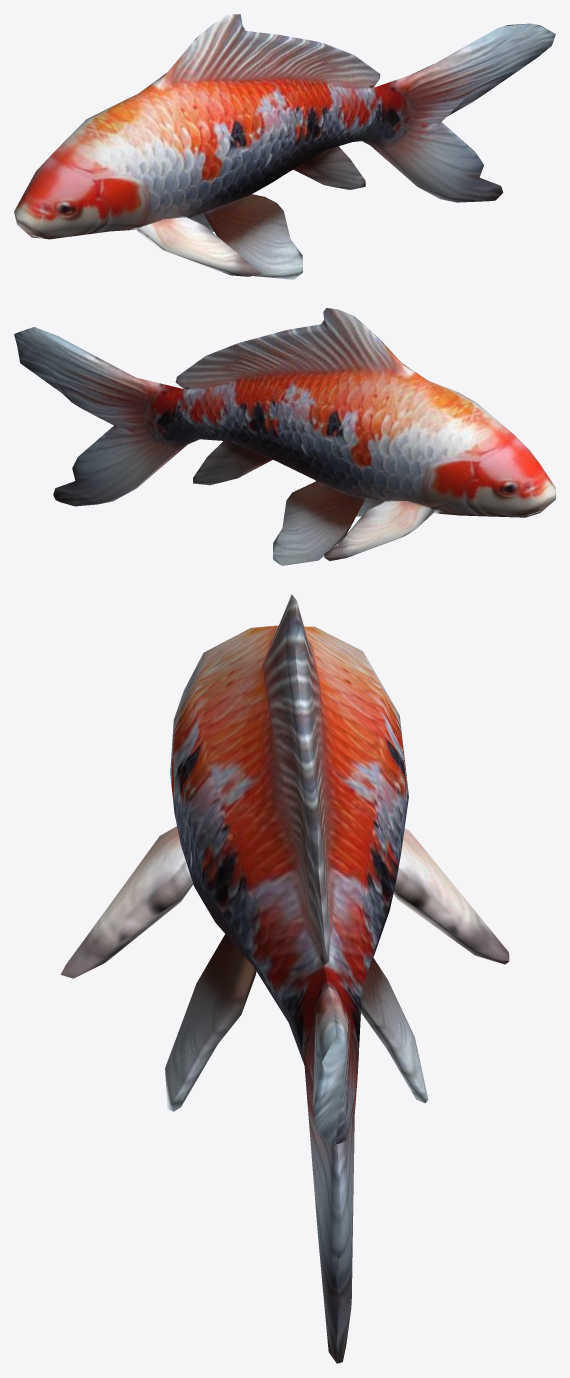
Rendered from koi.glb.
The picture shows the model from 3 angles, top to bottom: view 1: azimuth 30°, elevation 25°; view 2: azimuth 150°, elevation 25°; view 3: azimuth 270°, elevation 25°; orthographic projection. The views are drawn at different scales.
Parts seen in each view (by area): view 1: koifish_0; view 2: koifish_0; view 3: koifish_0.
Part boxes in pixels (x1,y1,x2,y2): koifish_0: (14,14,555,279); koifish_0: (14,308,555,565); koifish_0: (60,594,509,1363).
Size of the model in its own units: 6.39 by 2.89 by 2.34.
Materials: 1 (1 with a texture image).
